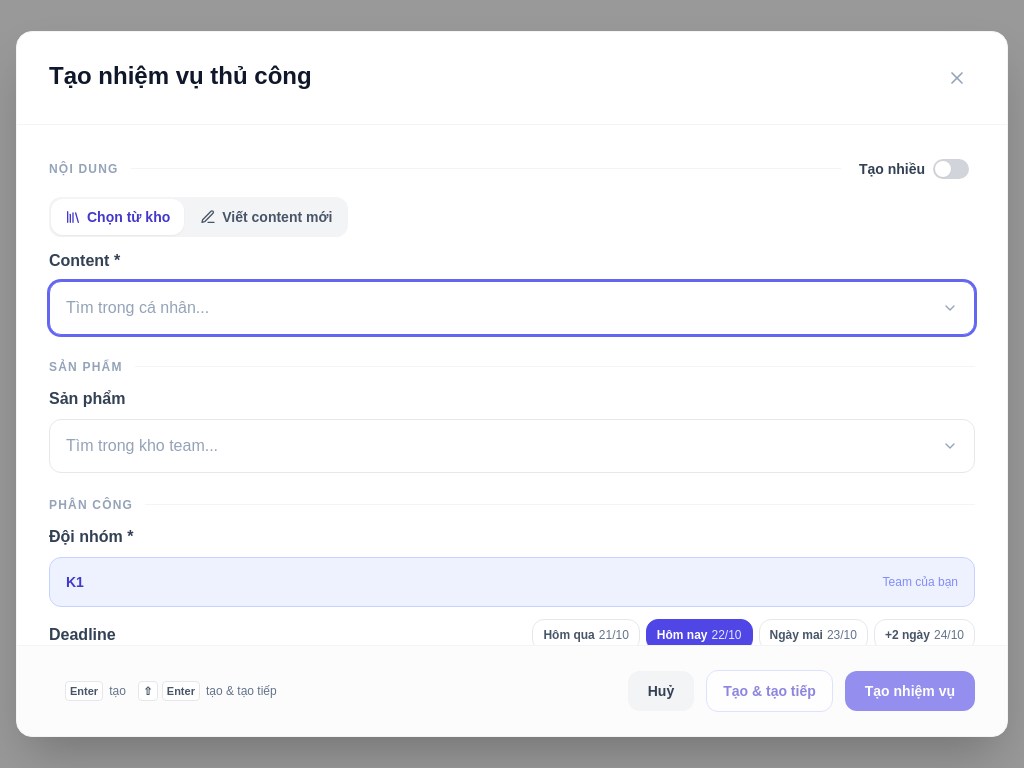
Test: Viết content mới ngay trong modal › tiêu đề trùng content trong kho cá nhân → cảnh báo, "Dùng content có sẵn" không tạo bản trùng
Click the button "Viết content mới" at (266, 217), box [186,199,346,235]
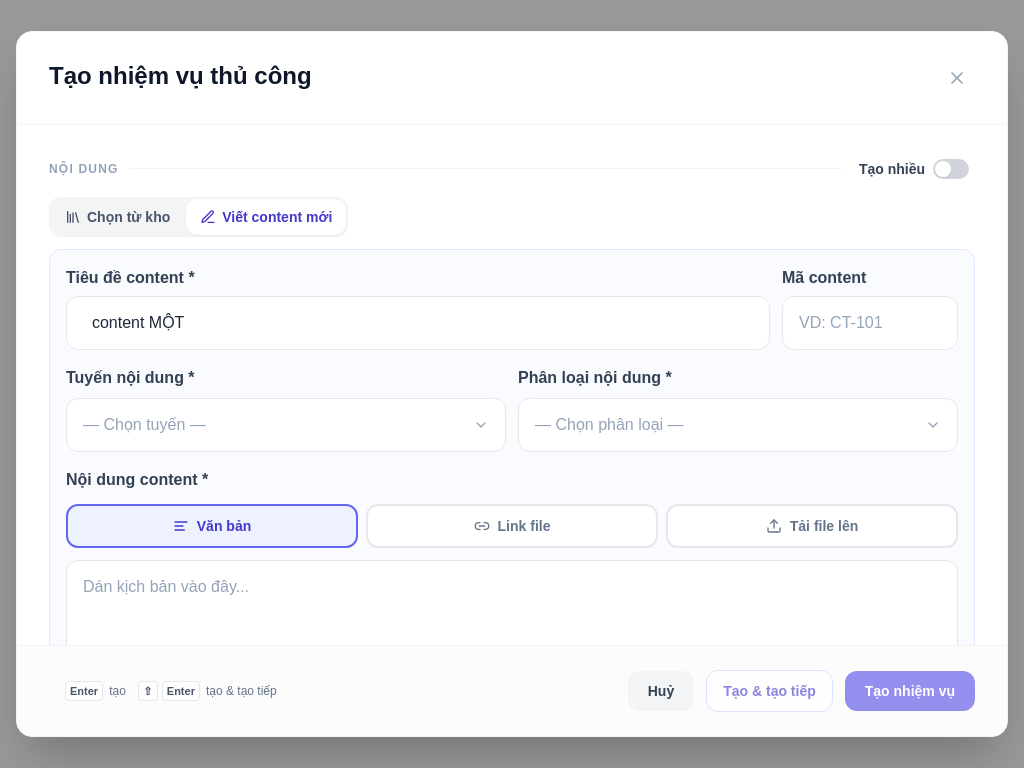
Replace the text in the field labelled "Tiêu đề content *" with "  content MỘT " at (418, 323), box [66,296,770,350]
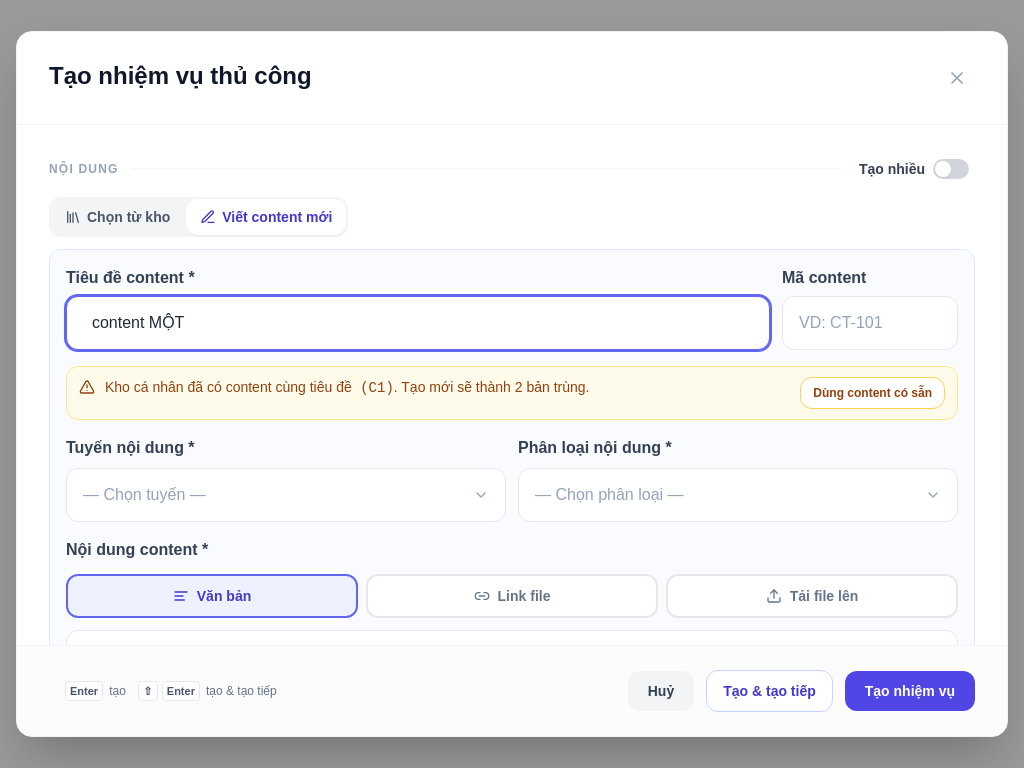
Now the text "Kho cá nhân đã có content cùng tiêu đề" is shown, box [105,379,352,395]
Click the button "Dùng content có sẵn" at (873, 393), box [800,377,945,409]
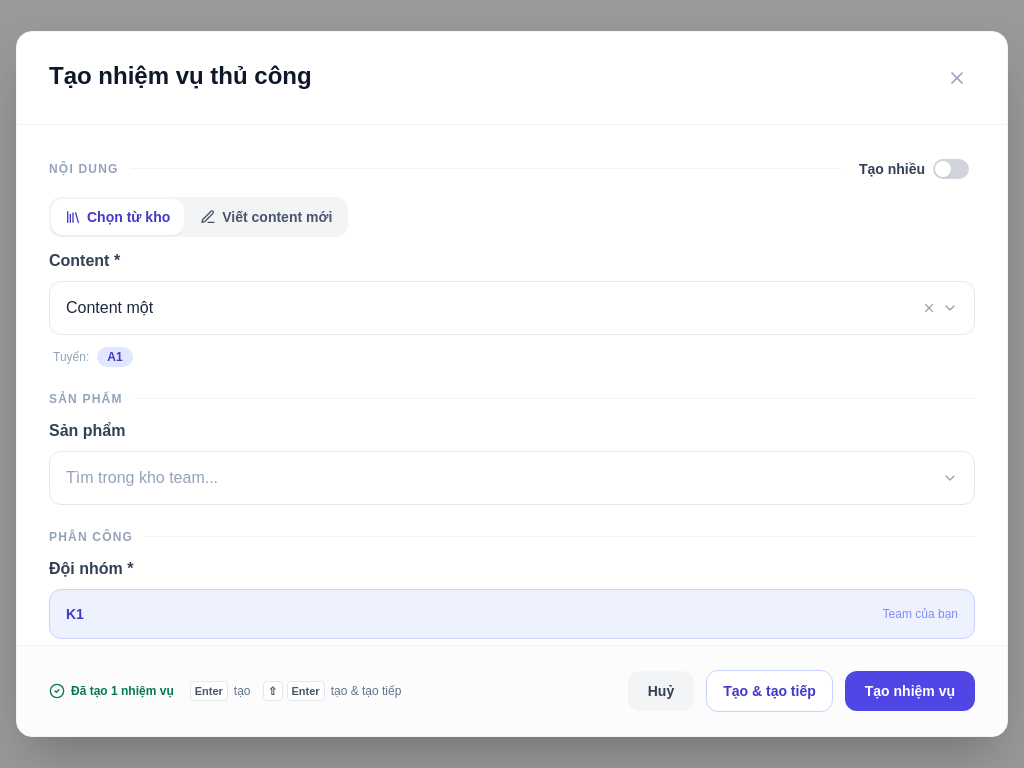
Now the button "Content một" is shown, box [49,281,975,335]
